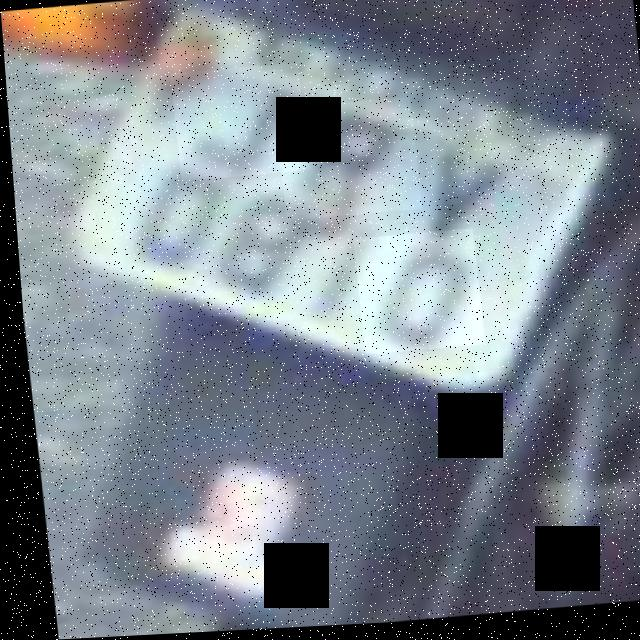0: (121, 158, 246, 270)
3: (120, 412, 355, 628)
6: (348, 233, 479, 358)
7: (257, 207, 392, 324)
8: (195, 184, 329, 293)
J: (168, 65, 307, 182)
R: (272, 100, 419, 223)
